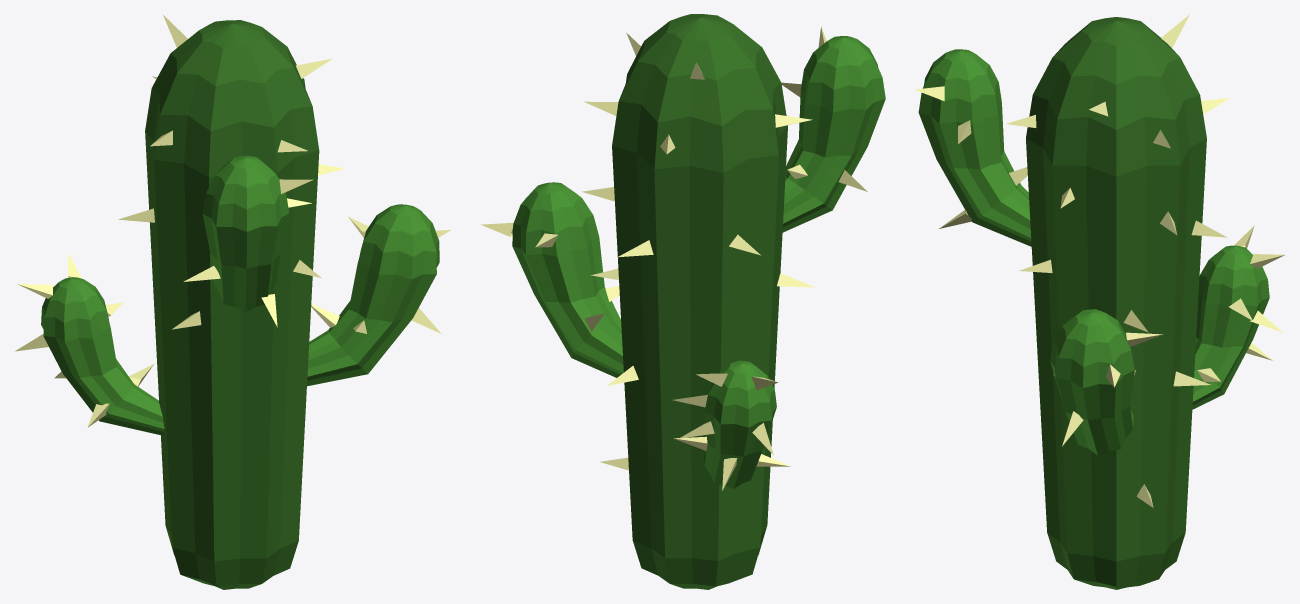
The model's file is Cactus_17_B.fbx.
3 renders of one model, left to right at view 1: azimuth 30°, elevation 25°; view 2: azimuth 150°, elevation 25°; view 3: azimuth 270°, elevation 25°, orthographic.
Visible parts, largest first — view 1: Cactus_17_B; view 2: Cactus_17_B; view 3: Cactus_17_B.
Part boxes in pixels (x1,y1,x2,y2): Cactus_17_B: (15, 15, 450, 589); Cactus_17_B: (481, 14, 885, 589); Cactus_17_B: (915, 14, 1285, 589).
Size of the model in its own units: 167 by 241 by 146.
